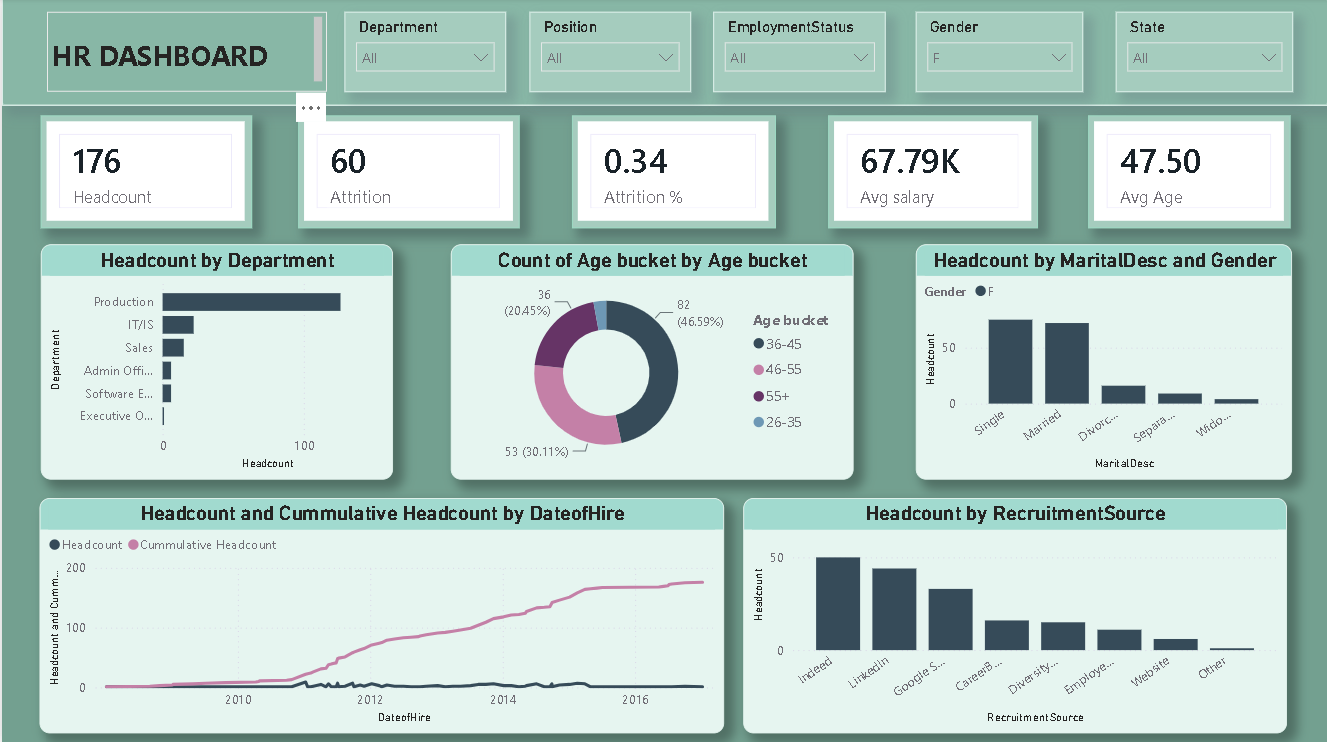

The dashboard page shown, as its layout file describes it:
{"tool":"powerbi","page":{"name":"Page 1","canvas":[1280,720],"ordinal":0},"visuals":[{"type":"shape","box":[0,0,1280,103.8],"z":0},{"type":"cardVisual","fields":{"Data":["Measure.Headcount"]},"box":[37.4,113.4,203.9,108.6],"z":1000},{"type":"cardVisual","fields":{"Data":["Measure.Attrition %"]},"box":[550.1,113.4,196.6,108.6],"z":2000},{"type":"cardVisual","fields":{"Data":["Measure.Attrition"]},"box":[285.9,113.4,213.5,108.6],"z":3000},{"type":"cardVisual","fields":{"Data":["Measure.Avg salary"]},"box":[797.5,113.4,202.7,108.6],"z":4000},{"type":"cardVisual","fields":{"Data":["Measure.Avg Age"]},"box":[1048.4,113.4,195.4,108.6],"z":5000},{"type":"clusteredBarChart","fields":{"Category":["HRDataset_v14.Department"],"Y":["Measure.Headcount"]},"box":[37.4,237.7,340.2,226.8],"z":6000},{"type":"donutChart","fields":{"Category":["HRDataset_v14.Age bucket"],"Y":["CountNonNull(HRDataset_v14.Age bucket)"]},"box":[433.1,237.7,388.5,226.8],"z":7000},{"type":"columnChart","fields":{"Category":["HRDataset_v14.MaritalDesc"],"Series":["HRDataset_v14.Gender"],"Y":["Measure.Headcount"]},"box":[881.9,237.7,363.1,226.8],"z":8000},{"type":"lineChart","fields":{"Category":["HRDataset_v14.DateofHire"],"Y":["Measure.Headcount","Measure.Cummulative Headcount"]},"box":[36.2,482.6,661.1,226.8],"z":9000},{"type":"columnChart","fields":{"Category":["HRDataset_v14.RecruitmentSource"],"Y":["Measure.Headcount"]},"box":[715.4,482.6,524.8,226.8],"z":10000},{"type":"slicer","fields":{"Values":["HRDataset_v14.Department"]},"box":[330.6,13.3,155.6,77.2],"z":11000},{"type":"slicer","fields":{"Values":["HRDataset_v14.Position"]},"box":[509.1,13.3,155.6,77.2],"z":12000},{"type":"slicer","fields":{"Values":["HRDataset_v14.EmploymentStatus"]},"box":[686.5,13.3,166.5,77.2],"z":13000},{"type":"slicer","fields":{"Values":["HRDataset_v14.Gender"]},"box":[881.9,13.3,161.7,77.2],"z":14000},{"type":"slicer","fields":{"Values":["HRDataset_v14.State"]},"box":[1074.9,13.3,171.3,77.2],"z":15000},{"type":"textbox","box":[43.4,13.3,270.2,77.2],"z":16000}]}

Visuals, with their boxes in screenshot pixels (x1, y1, x2, y2), scaled from the page's 1280x720 canvas onto the 1327x742 screenshot:
shape: (0,0,1326,107)
cardVisual - Measure.Headcount: (39,117,250,229)
cardVisual - Measure.Attrition %: (570,117,774,229)
cardVisual - Measure.Attrition: (296,117,518,229)
cardVisual - Measure.Avg salary: (827,117,1037,229)
cardVisual - Measure.Avg Age: (1087,117,1289,229)
clusteredBarChart - HRDataset_v14.Department x Measure.Headcount: (39,245,391,479)
donutChart - HRDataset_v14.Age bucket x CountNonNull(HRDataset_v14.Age bucket): (449,245,852,479)
columnChart - HRDataset_v14.MaritalDesc x HRDataset_v14.Gender: (914,245,1291,479)
lineChart - HRDataset_v14.DateofHire x Measure.Headcount: (38,497,723,731)
columnChart - HRDataset_v14.RecruitmentSource x Measure.Headcount: (742,497,1286,731)
slicer - HRDataset_v14.Department: (343,14,504,93)
slicer - HRDataset_v14.Position: (528,14,689,93)
slicer - HRDataset_v14.EmploymentStatus: (712,14,884,93)
slicer - HRDataset_v14.Gender: (914,14,1082,93)
slicer - HRDataset_v14.State: (1114,14,1292,93)
textbox: (45,14,325,93)
